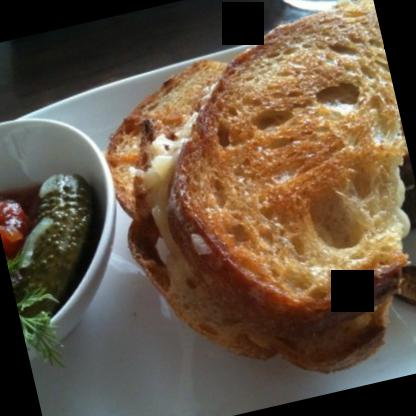toast bread: (89, 34, 415, 408), (137, 0, 415, 343)
